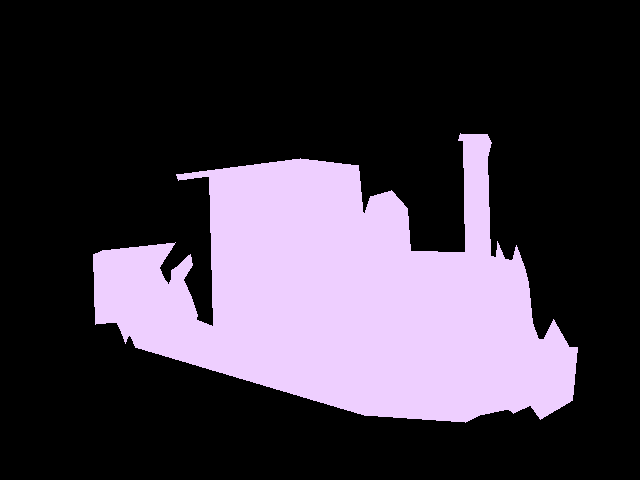Train: (93, 133, 577, 422)
